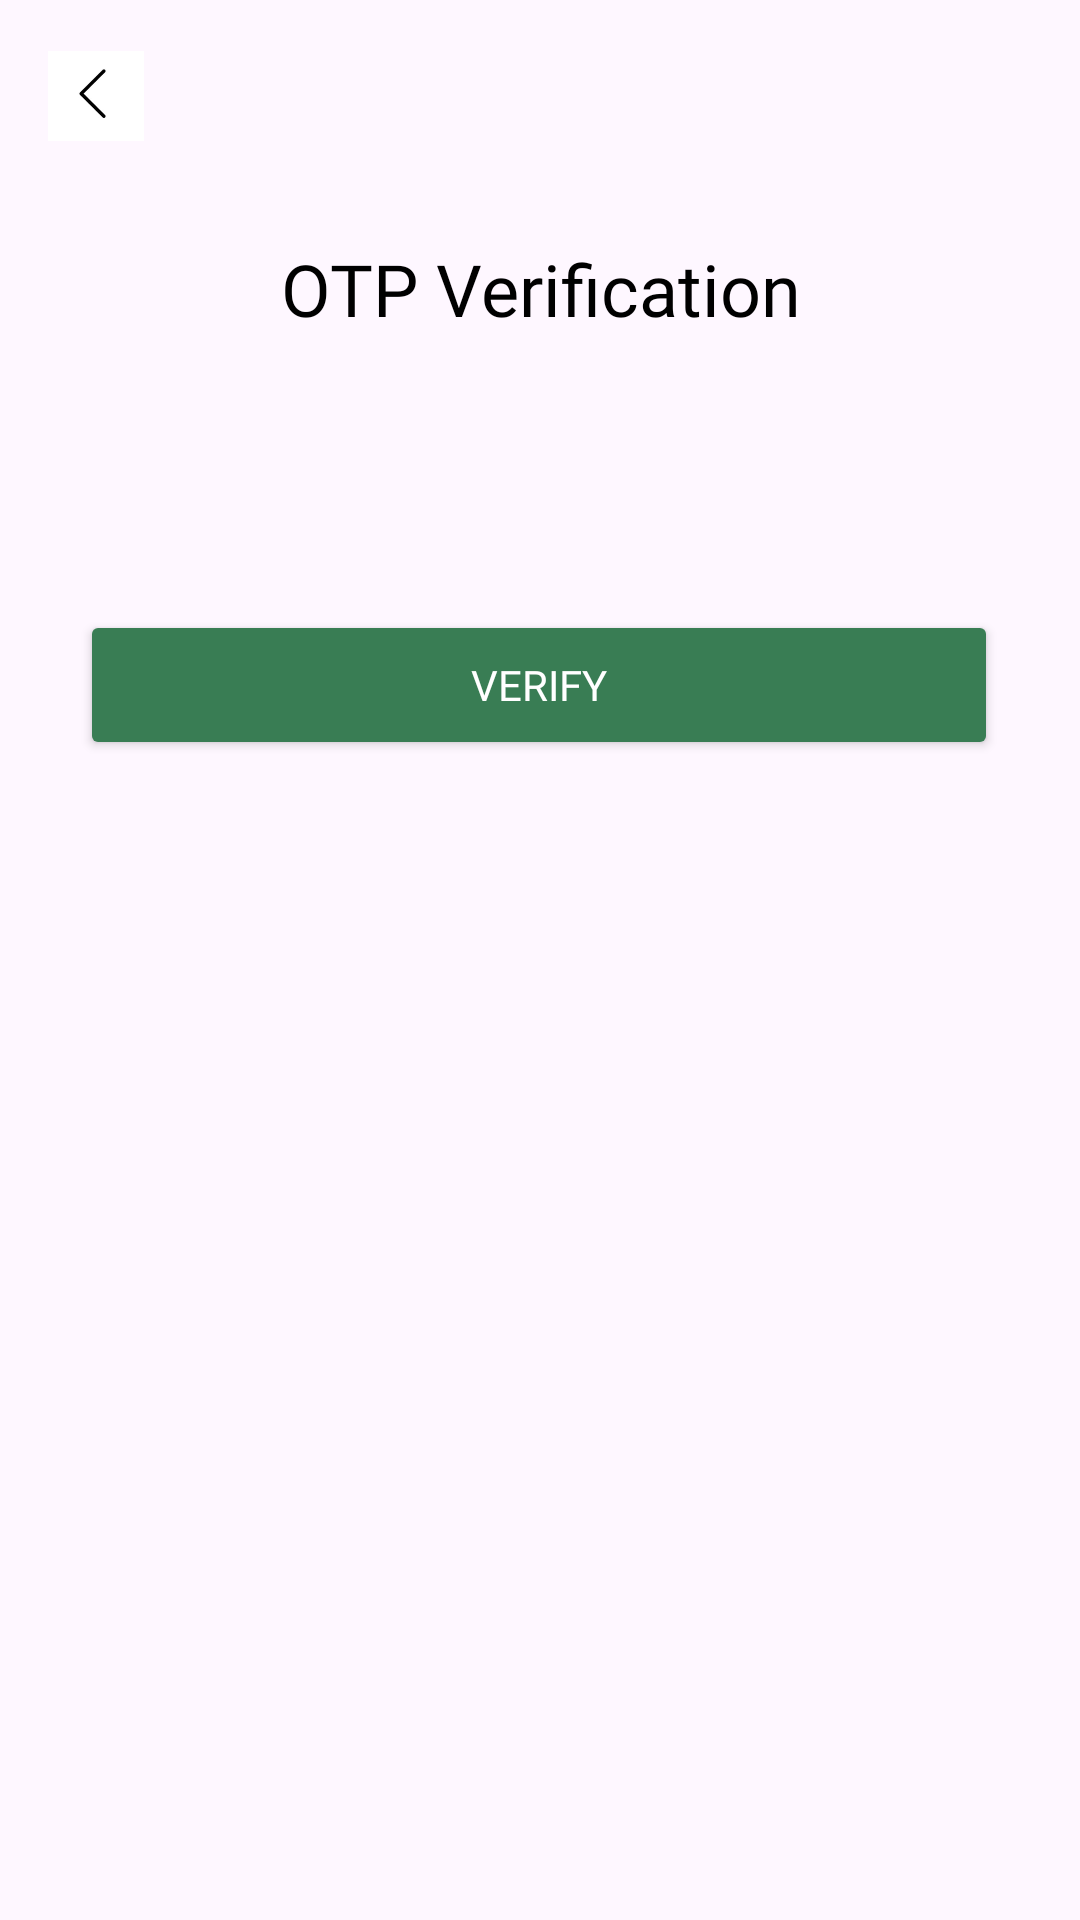

Named icons in this screenshot (1080x1920) and their centers, (x=x, y=y):
Back: (x=92, y=93)
